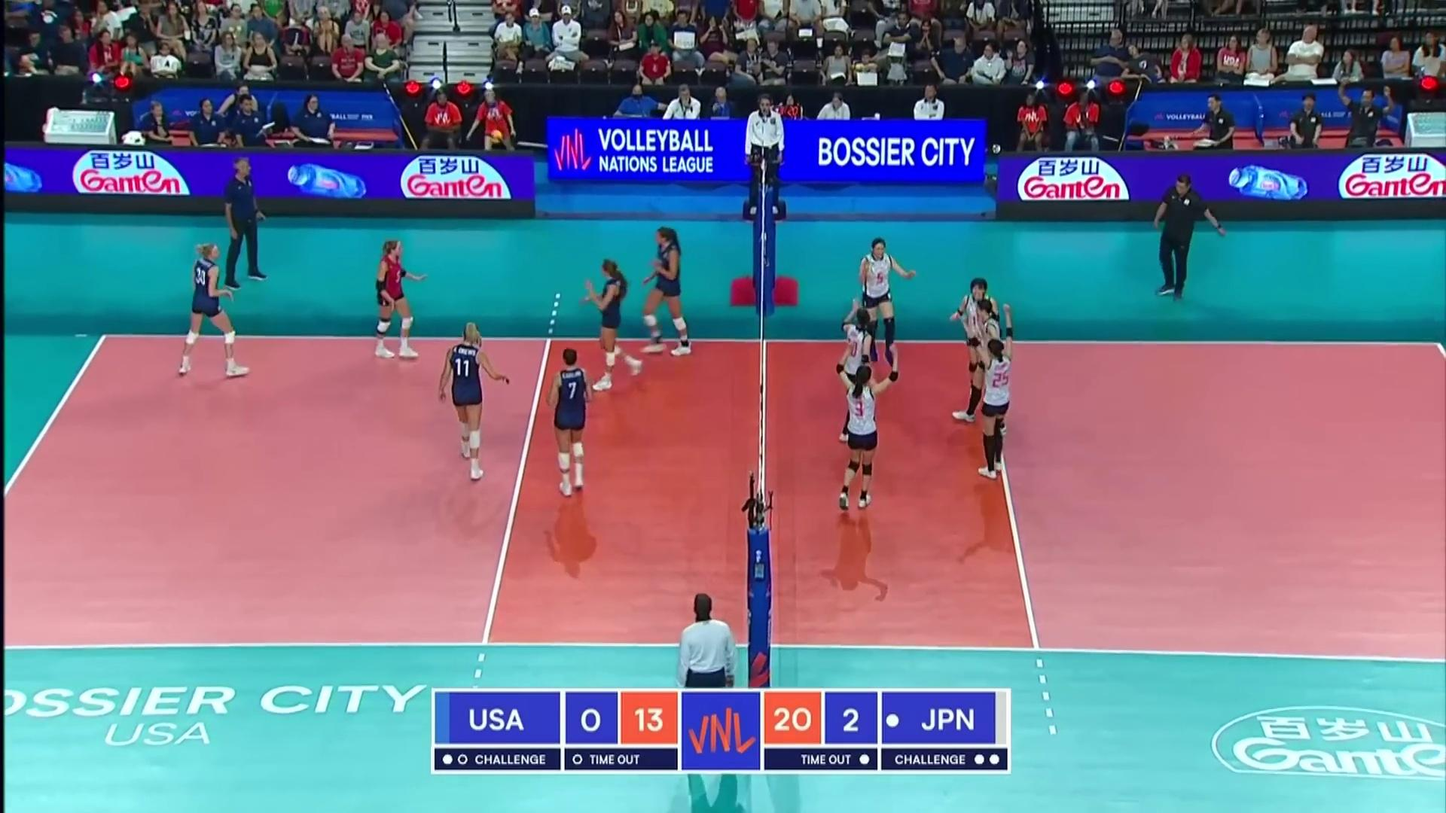player: (439, 324, 511, 473), (844, 237, 916, 381), (175, 242, 248, 379), (949, 282, 1015, 429), (832, 358, 887, 511), (588, 256, 645, 390), (637, 223, 692, 357), (546, 347, 593, 492), (371, 241, 425, 366), (839, 298, 881, 444), (970, 296, 1010, 436), (981, 338, 1008, 483)
refree: (674, 593, 739, 778), (738, 95, 787, 218)
